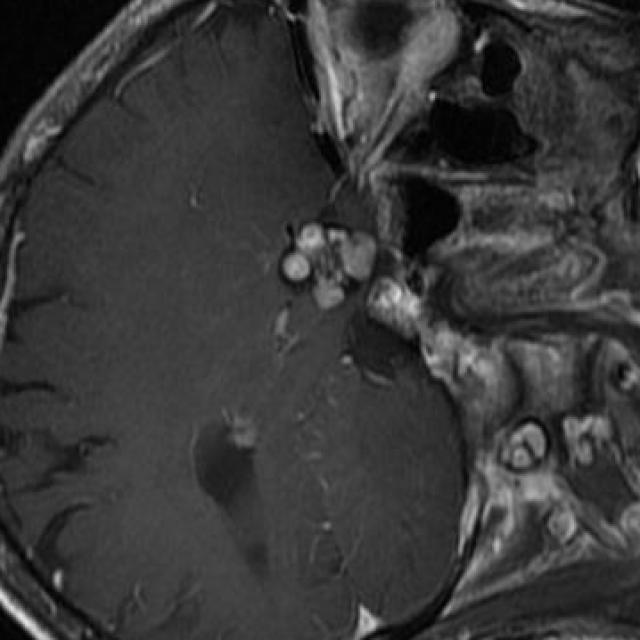glioma: (276, 217, 376, 310)
